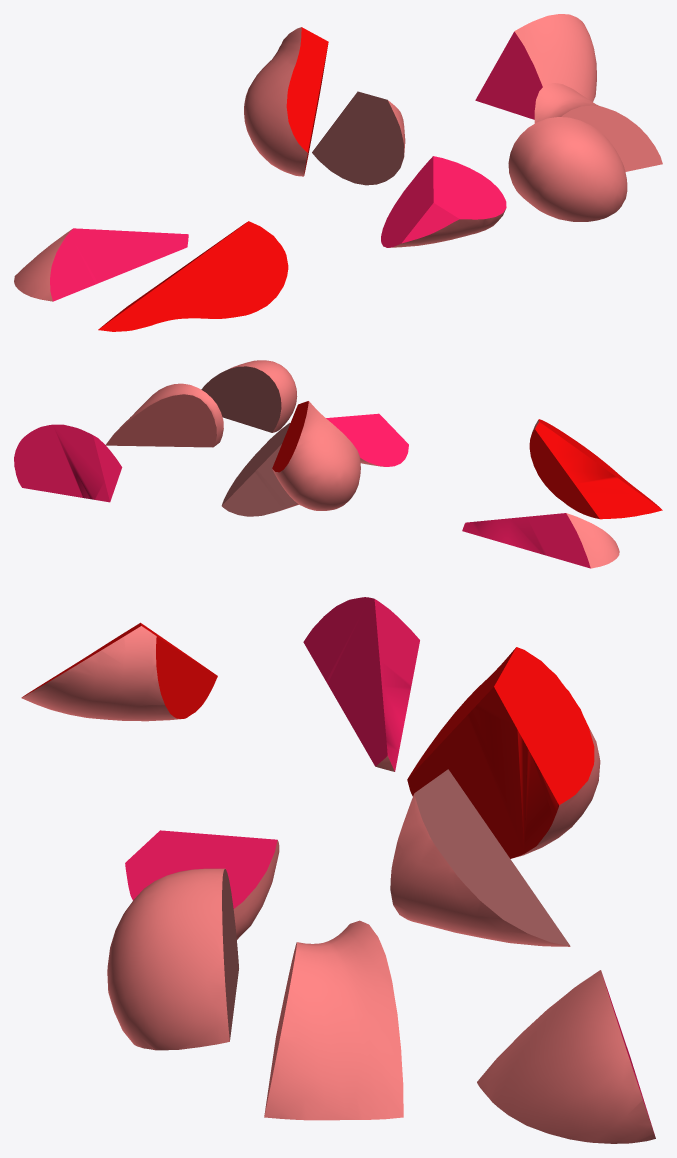
File: HeartBreak.fbx
The picture shows the model from 3 angles, top to bottom: view 1: azimuth 30°, elevation 25°; view 2: azimuth 150°, elevation 25°; view 3: azimuth 270°, elevation 25°; orthographic projection. The views are drawn at different scales.
Visible parts, largest first — view 1: Pieces_8, Pieces_6, Pieces_4, Pieces_3, Pieces_1, Pieces_7, Pieces_2, Pieces_5; view 2: Pieces_4, Pieces_8, Pieces_3, Pieces_5, Pieces_7, Pieces_6, Pieces_2, Pieces_1; view 3: Pieces_4, Pieces_5, Pieces_6, Pieces_3, Pieces_2, Pieces_7, Pieces_8, Pieces_1.
Part boxes in pixels (x1,y1,x2,y2): Pieces_8: (98,221,288,331); Pieces_6: (508,117,627,221); Pieces_4: (244,27,328,176); Pieces_3: (475,14,596,119); Pieces_1: (381,156,506,247); Pieces_7: (14,228,188,301); Pieces_2: (312,91,405,185); Pieces_5: (534,83,662,171); Pieces_4: (272,401,360,510); Pieces_8: (529,419,662,519); Pieces_3: (14,424,122,502); Pieces_5: (105,383,223,447); Pieces_7: (462,513,619,568); Pieces_6: (201,360,297,432); Pieces_2: (221,423,298,516); Pieces_1: (326,413,408,466); Pieces_4: (407,647,600,858); Pieces_5: (264,920,403,1120); Pieces_6: (107,868,238,1050); Pieces_3: (477,970,655,1143); Pieces_2: (390,769,570,946); Pieces_7: (303,597,419,771); Pieces_8: (21,622,217,721); Pieces_1: (125,830,279,939).
Size of the model in its own units: 664 by 147 by 345.
